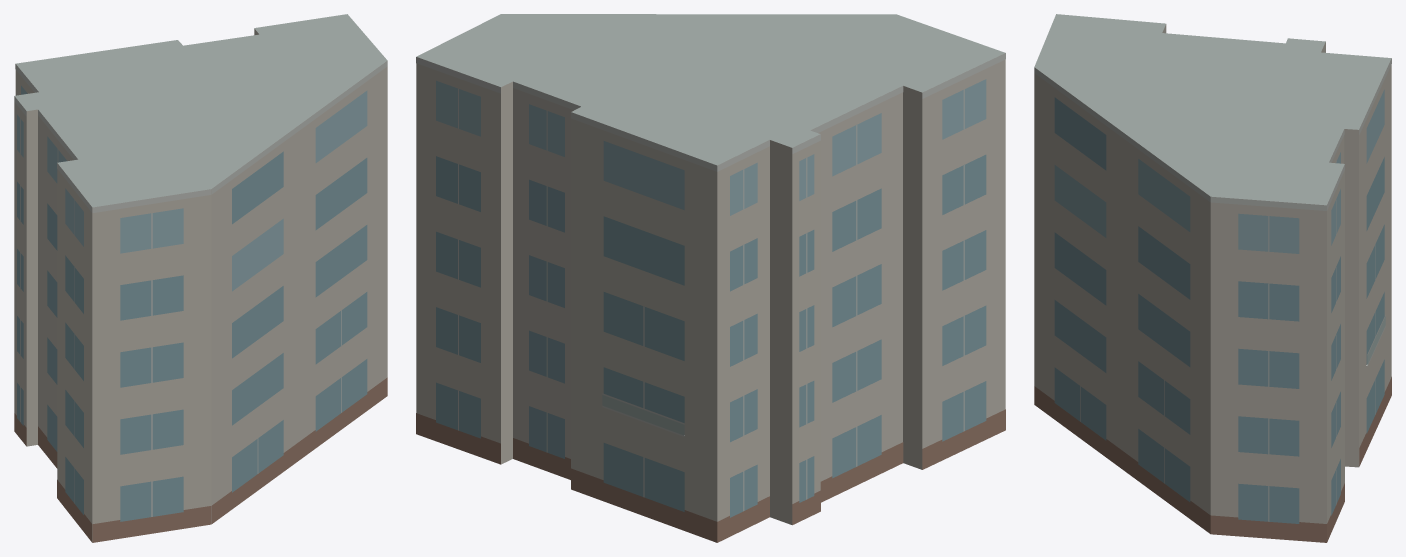
The model's file is survey-upis-32870704.glb.
3 renders of one model, left to right at view 1: azimuth 30°, elevation 25°; view 2: azimuth 150°, elevation 25°; view 3: azimuth 270°, elevation 25°, orthographic. The views are drawn at different scales.
Visible parts, largest first — view 1: survey-upis-32870704.tmp; view 2: survey-upis-32870704.tmp; view 3: survey-upis-32870704.tmp.
Part boxes in pixels (box(x1,y1,x2,y2)): survey-upis-32870704.tmp: box(14, 14, 387, 542); survey-upis-32870704.tmp: box(416, 14, 1005, 542); survey-upis-32870704.tmp: box(1034, 14, 1391, 542).
Bounding box in the file's own units: 17.39 × 14.3 × 13.73.
